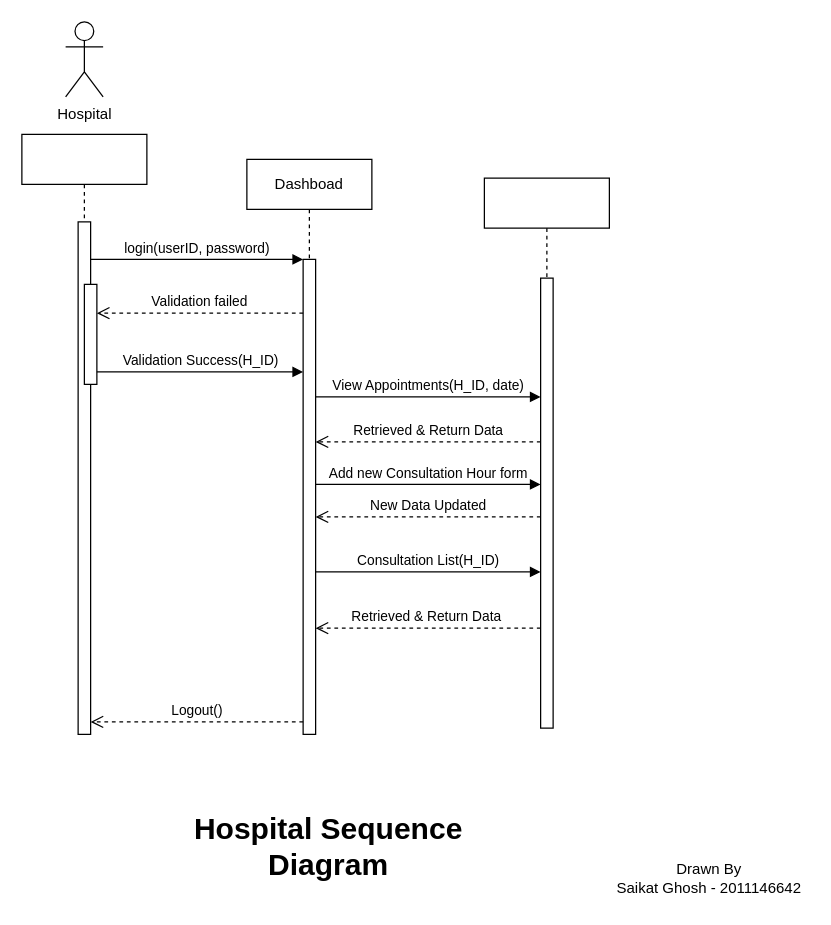
The diagram is 831 pixels wide and 925 high, and some of its shapes have lost their labels. Each missing label, with the box of its shape:
Database: (483, 177, 609, 728)
Login: (21, 133, 147, 734)
